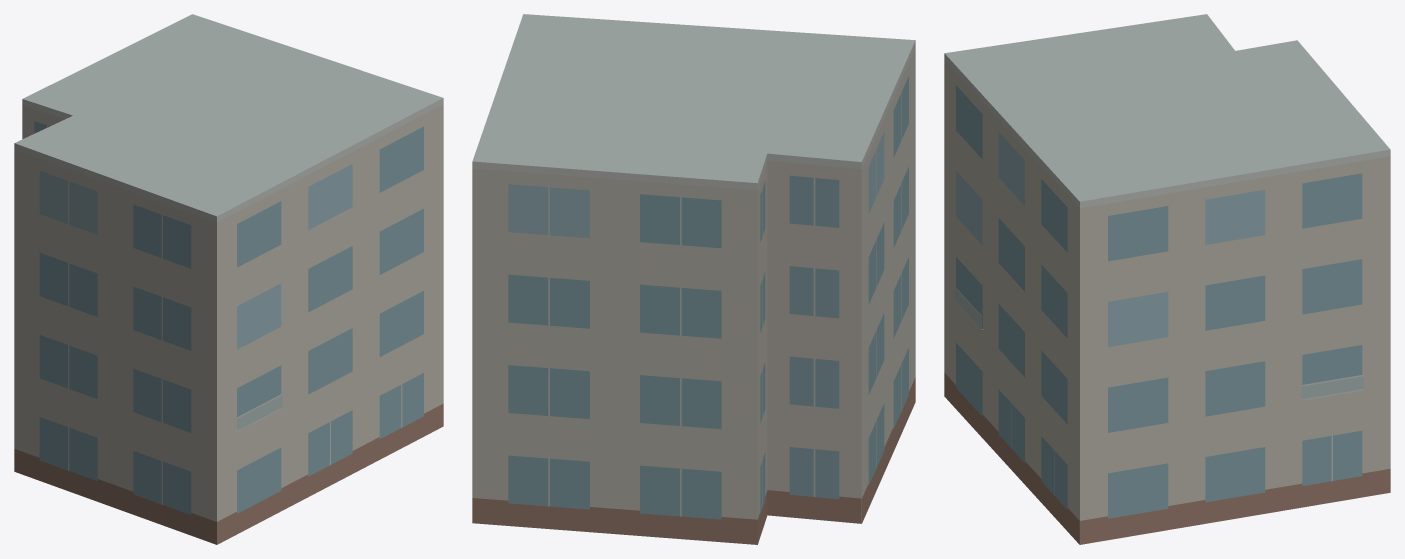
The model's file is survey-upis-32866008.glb.
3 renders of one model, left to right at view 1: azimuth 30°, elevation 25°; view 2: azimuth 150°, elevation 25°; view 3: azimuth 270°, elevation 25°, orthographic. The views are drawn at different scales.
Parts seen in each view (by area): view 1: survey-upis-32866008.tmp; view 2: survey-upis-32866008.tmp; view 3: survey-upis-32866008.tmp.
Part boxes in pixels (x1,y1,x2,y2): survey-upis-32866008.tmp: [14, 14, 443, 544]; survey-upis-32866008.tmp: [472, 14, 915, 544]; survey-upis-32866008.tmp: [944, 14, 1390, 544].
Bounding box in the file's own units: 14.85 × 12.65 × 14.91.
